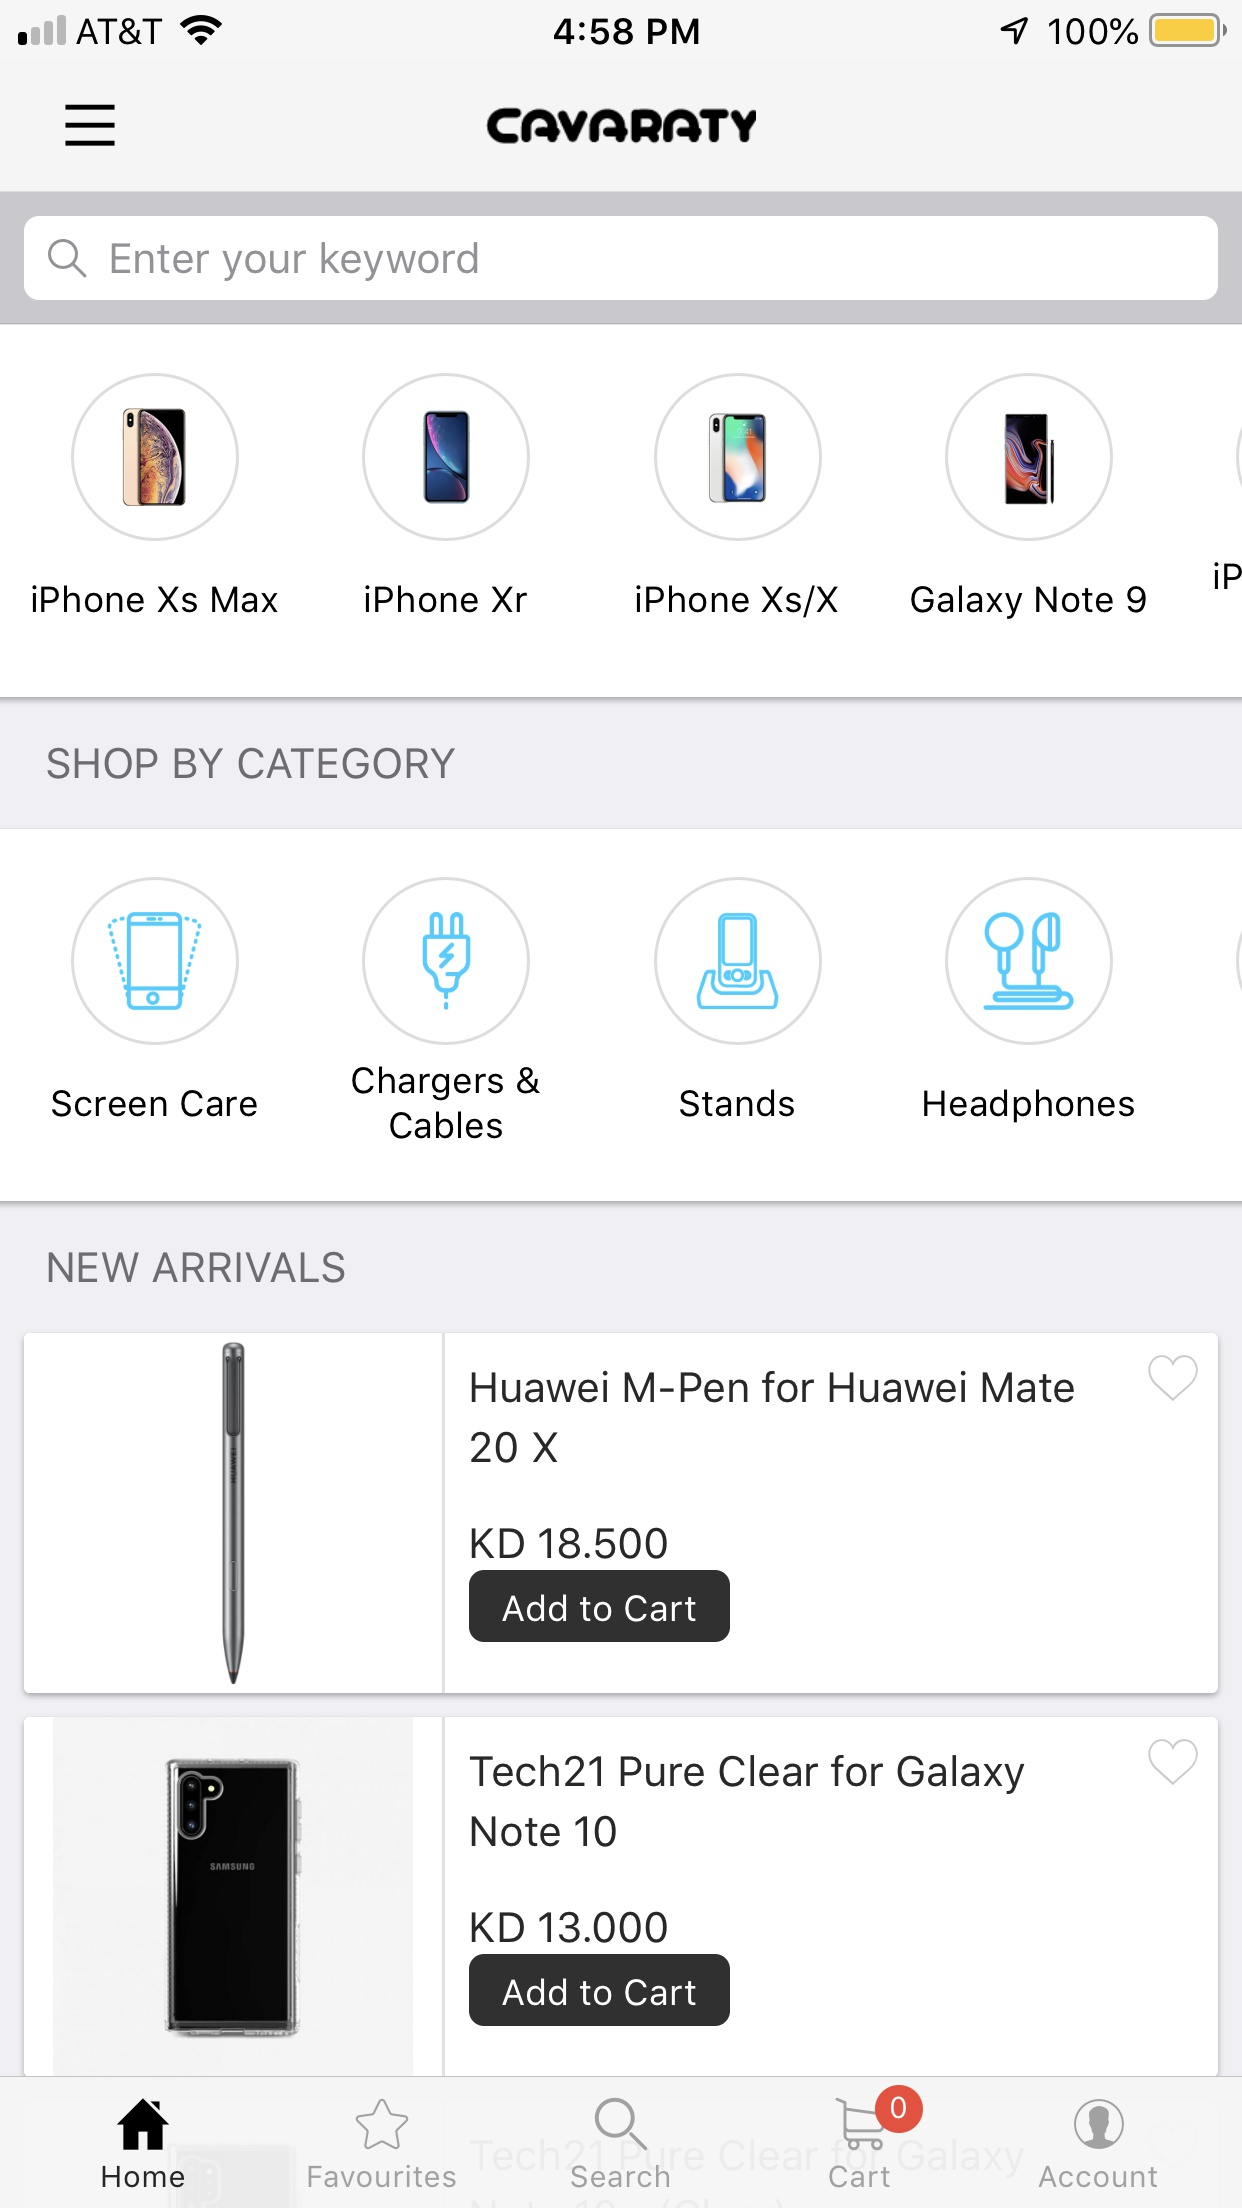EditText: (24, 217, 1219, 302)
Icon: (836, 2084, 924, 2150), (117, 2097, 171, 2150), (594, 2097, 648, 2150), (356, 2099, 409, 2150), (1074, 2099, 1125, 2150), (1146, 1356, 1200, 1403), (1148, 1738, 1200, 1785), (65, 105, 117, 149), (49, 240, 88, 279)
Image: (164, 1758, 303, 2038), (943, 877, 1115, 1046), (654, 877, 823, 1046), (362, 877, 532, 1046), (71, 877, 241, 1046), (654, 372, 823, 541), (945, 373, 1115, 543), (71, 373, 240, 541), (362, 373, 531, 541), (485, 109, 757, 146), (221, 1342, 247, 1685)
Text: (472, 1369, 1075, 1463), (470, 1755, 1025, 1849), (111, 243, 479, 284), (352, 1066, 541, 1140), (47, 748, 456, 779), (49, 1251, 346, 1284), (30, 579, 279, 616), (910, 585, 1146, 622), (924, 1089, 1134, 1124), (635, 584, 839, 619), (472, 1527, 669, 1560), (472, 1911, 667, 1944), (52, 1089, 258, 1118), (365, 585, 528, 614), (308, 2164, 456, 2188), (679, 1089, 795, 1118), (1037, 2166, 1159, 2188), (572, 2166, 670, 2188), (103, 2166, 187, 2188), (830, 2164, 892, 2188), (1210, 560, 1240, 590)
TextButton: (469, 1955, 731, 2028), (469, 1570, 731, 1642)
UpperTaskBar: (2, 2, 1242, 49)
